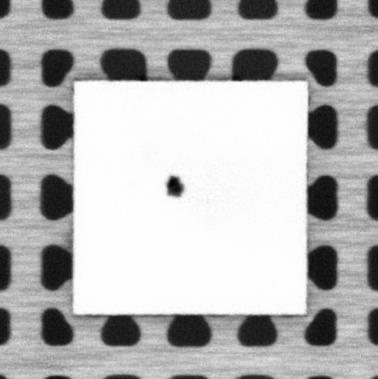DIE_INK: (164, 173, 185, 198)
